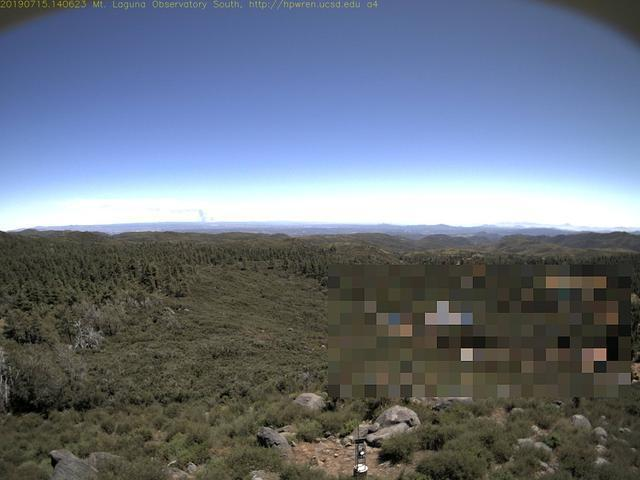Smoke: (190, 204, 214, 223)
